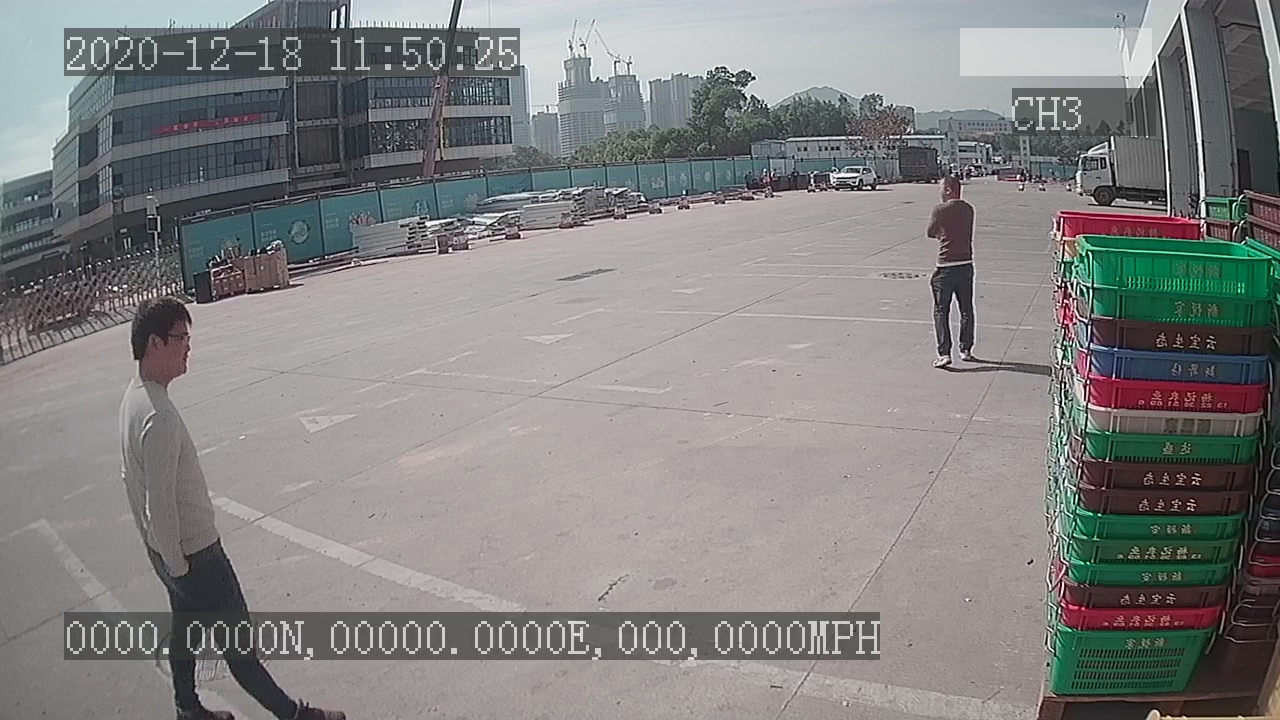person: (918, 172, 981, 372)
